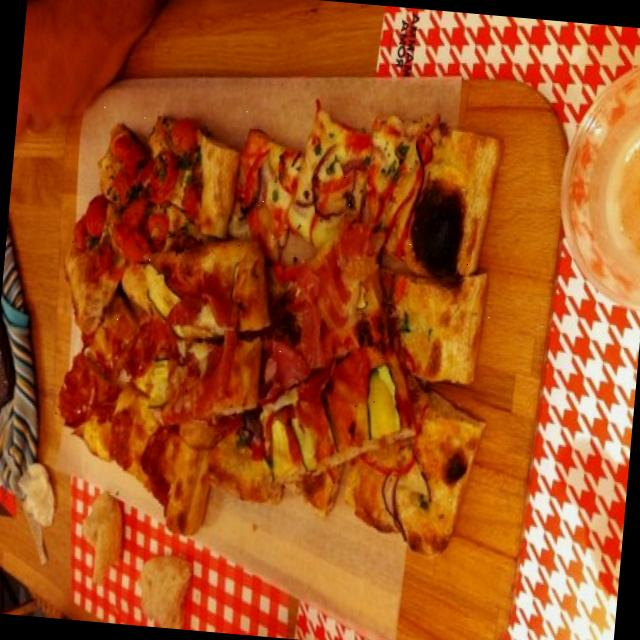pizza: (60, 103, 509, 554)
